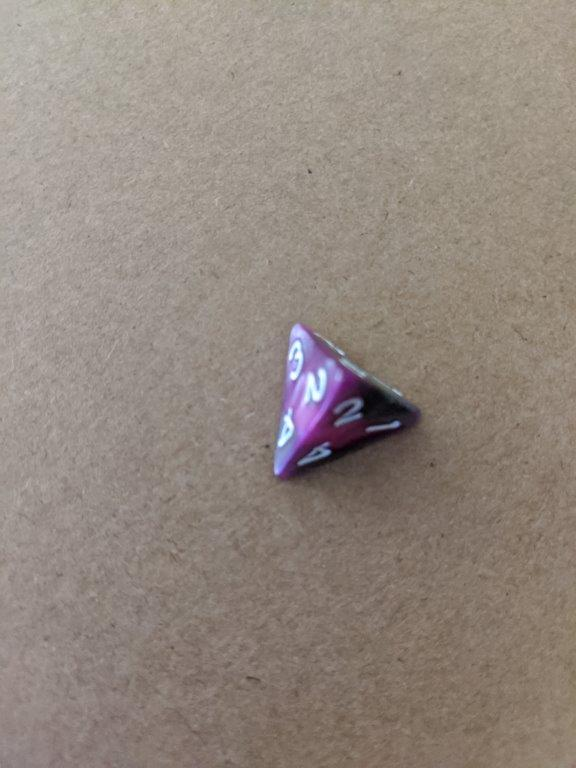d4-2: (270, 322, 426, 482)
